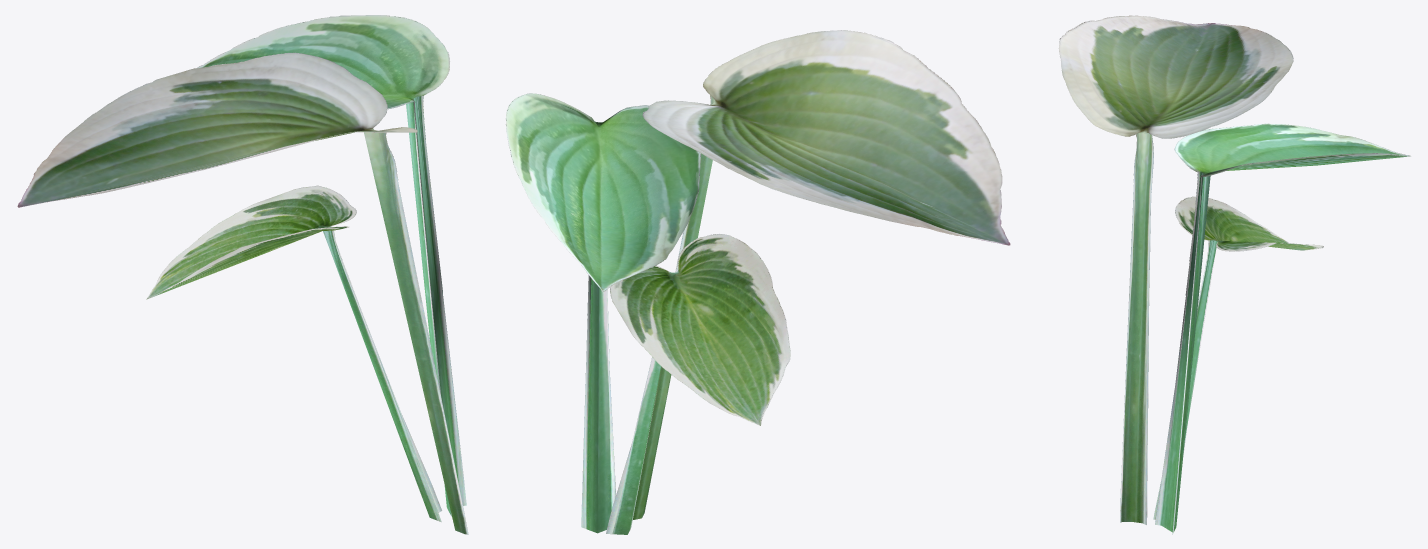
The model's file is plant_small_wg_00_fillerD.fbx.
3 views of the same model, side by side, from view 1: azimuth 30°, elevation 25°; view 2: azimuth 150°, elevation 25°; view 3: azimuth 270°, elevation 25° (orthographic). The views are drawn at different scales.
Parts seen in each view (by area): view 1: plant_small_wg_00_fillerD; view 2: plant_small_wg_00_fillerD; view 3: plant_small_wg_00_fillerD.
Part boxes in pixels (bbox=[...]): plant_small_wg_00_fillerD: bbox=[17, 15, 468, 534]; plant_small_wg_00_fillerD: bbox=[505, 30, 1010, 534]; plant_small_wg_00_fillerD: bbox=[1058, 15, 1410, 534].
Bounding box in the file's own units: 41.34 × 41.03 × 33.68.
Materials: 1 (1 with a texture image).
